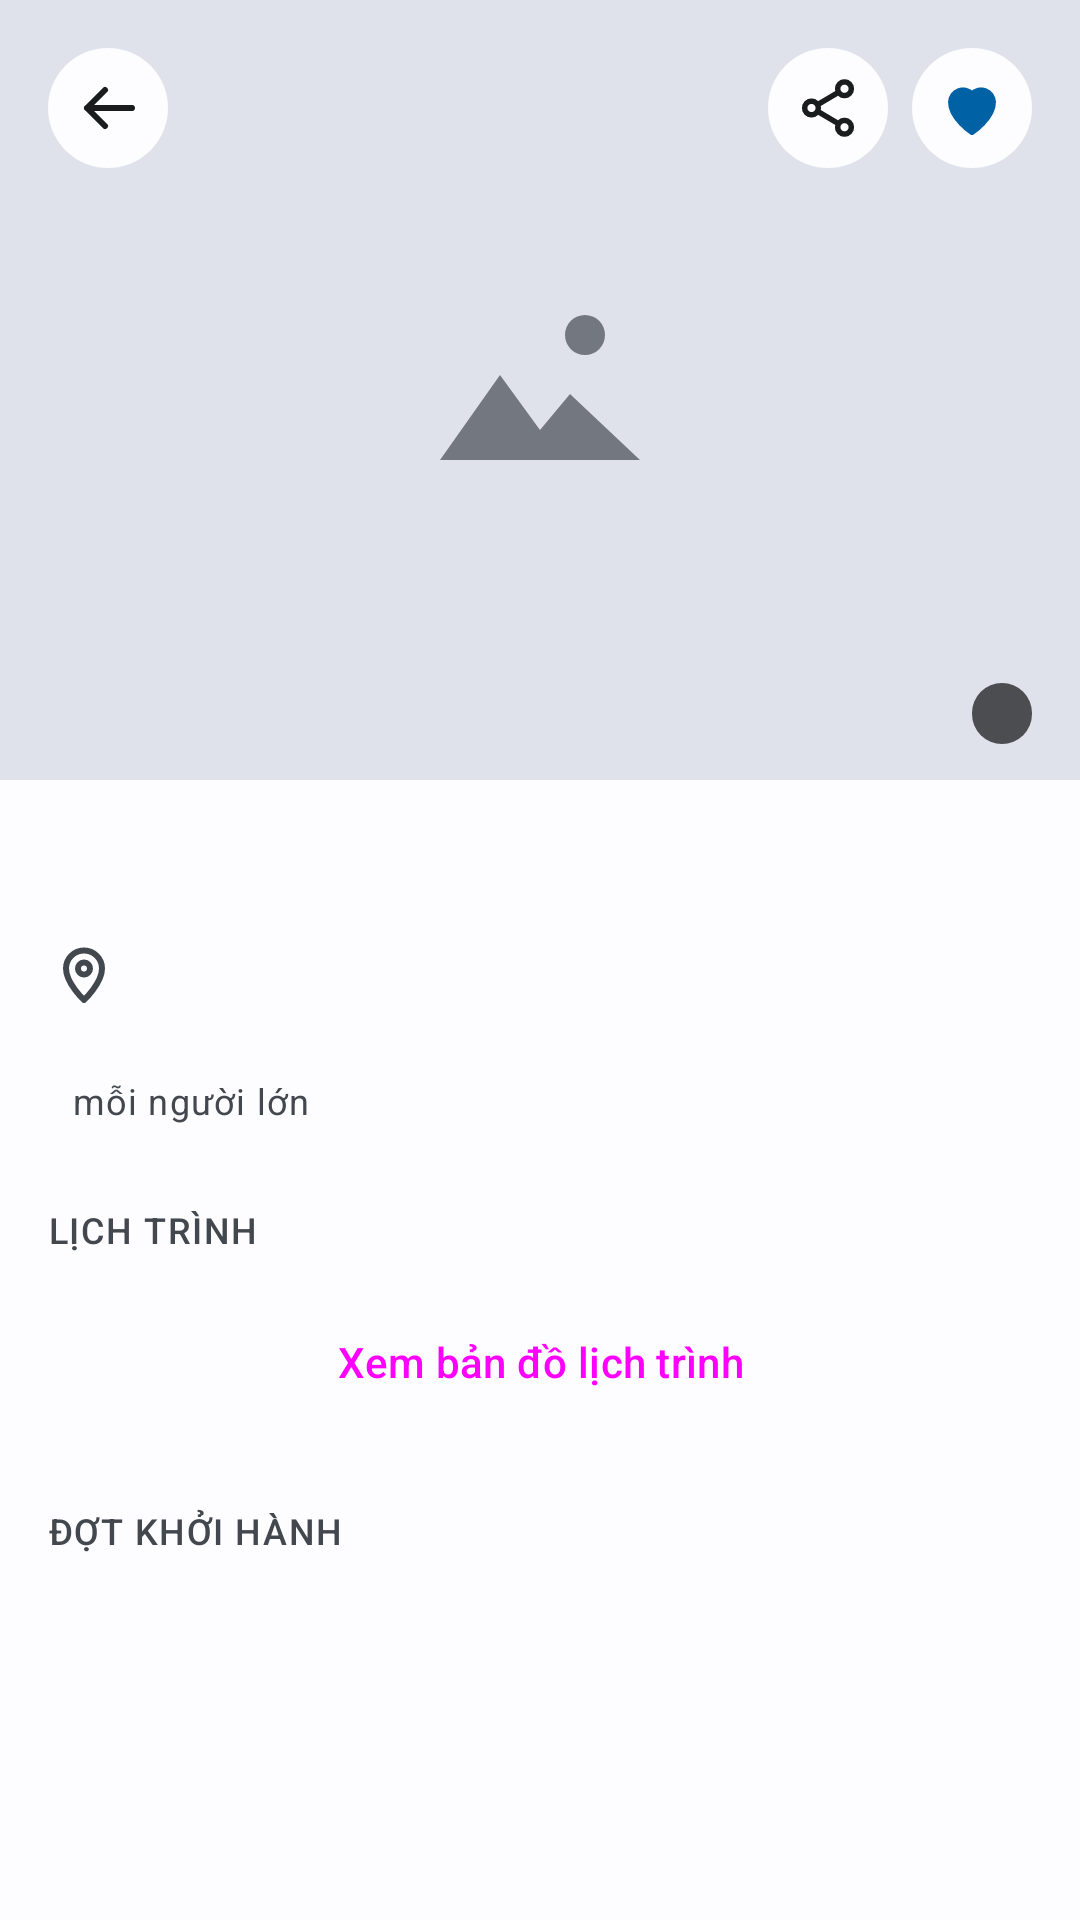

Screen size 1080×1920. Icon name, then its box in pixels as (x1, y1, x2, y2):
Chia sẻ tour: (768, 48, 888, 168)
Lưu vào yêu thích: (912, 48, 1032, 168)
Quay lại: (48, 48, 168, 168)
